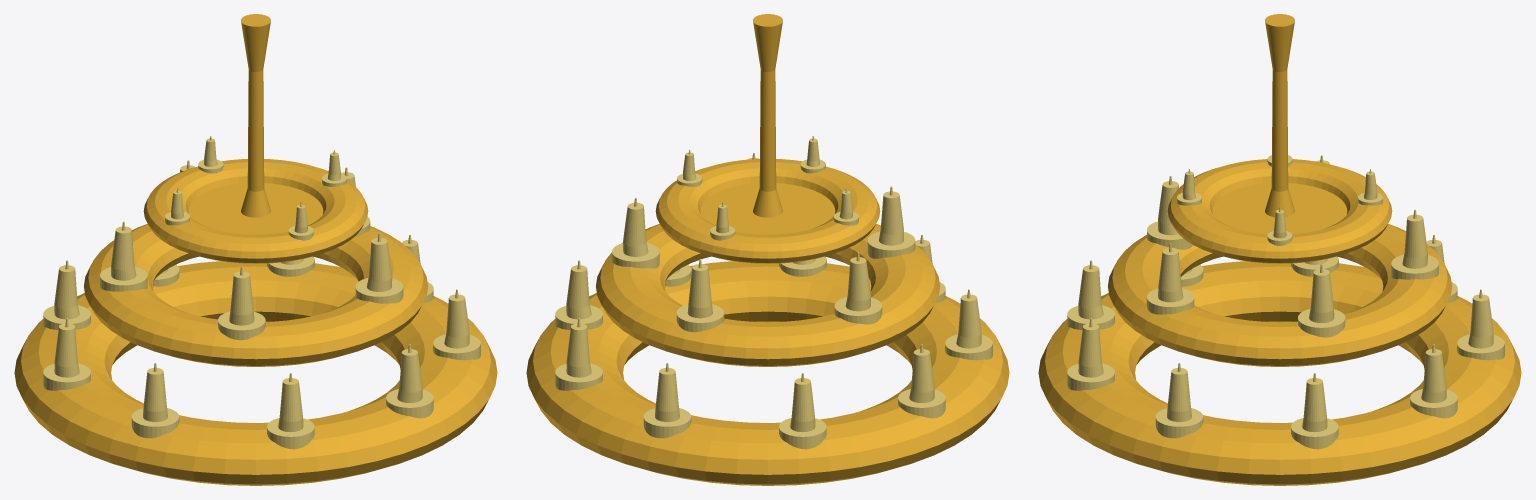
The model's file is CandlesAndChandler.glb.
3 views of the same model, side by side, from view 1: azimuth 30°, elevation 25°; view 2: azimuth 150°, elevation 25°; view 3: azimuth 270°, elevation 25° (orthographic).
Parts seen in each view (by area): view 1: all; view 2: all; view 3: all.
Part boxes in pixels (x1=…): all: x1=14, y1=14, x2=497, y2=485; all: x1=526, y1=14, x2=1009, y2=485; all: x1=1038, y1=14, x2=1521, y2=485.
Bounding box in the file's own units: 1.32 × 1.14 × 1.32.
